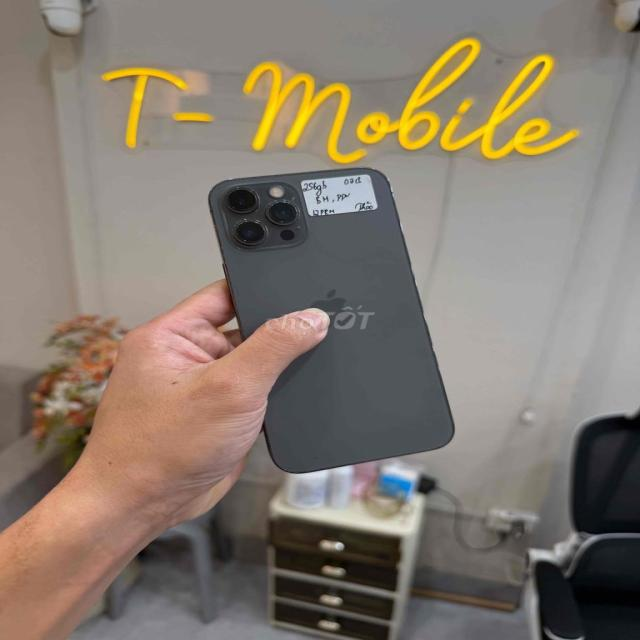gen_12_13: (203, 164, 459, 474)
